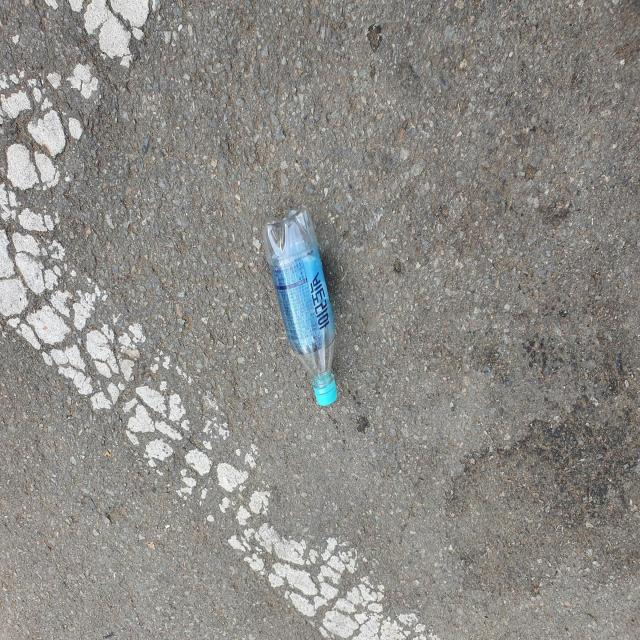plastic: (263, 208, 337, 406)
